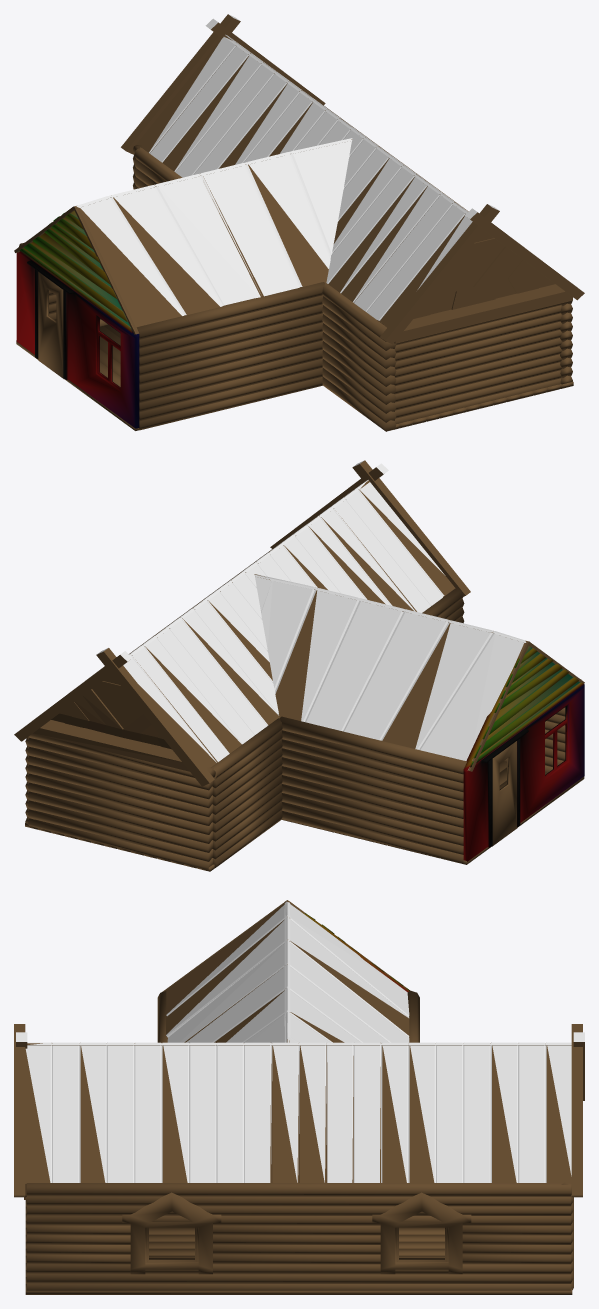
File: snow_house_6.fbx
3 views of the same model, one above another, from view 1: azimuth 30°, elevation 25°; view 2: azimuth 150°, elevation 25°; view 3: azimuth 270°, elevation 25° (orthographic). The views are drawn at different scales.
Visible parts, largest first — view 1: Roof_01_b, Roof_01_b.003, Wall_Wide_02_b.005, Wall_Narrow_01_a, Wall_Narrow_02_b, Wall_Wide_02_b.001, Door_01, Floor_01_c, Wall_Wide_02_b.003, Wall_Wide_01_b.001, Floor_01_c.001; view 2: Roof_01_b, Roof_01_b.003, Wall_Wide_02_b.004, Wall_Wide_02_b.002, Wall_Narrow_01_a, Wall_Wide_02_b.003, Door_01, Wall_Wide_02_b.005, Wall_Wide_02_b.001, Floor_01_c; view 3: Roof_01_b, Wall_Wide_01_b.001, Roof_01_b.003, Floor_01_c.001, Wall_Wide_02_b.004.
Part boxes in pixels (x1,y1,x2,y2): Roof_01_b: (121,14,584,344); Roof_01_b.003: (14,138,352,334); Wall_Wide_02_b.005: (136,282,324,430); Wall_Narrow_01_a: (16,210,139,428); Wall_Narrow_02_b: (394,303,562,423); Wall_Wide_02_b.001: (322,282,396,431); Door_01: (38,272,64,378); Floor_01_c: (16,324,138,430); Wall_Wide_02_b.003: (134,147,182,189); Wall_Wide_01_b.001: (318,101,572,384); Floor_01_c.001: (387,381,573,431); Roof_01_b: (14,460,470,786); Roof_01_b.003: (254,574,584,771); Wall_Wide_02_b.004: (280,716,466,863); Wall_Wide_02_b.002: (28,733,215,869); Wall_Narrow_01_a: (463,646,584,861); Wall_Wide_02_b.003: (211,718,282,867); Door_01: (491,741,517,846); Wall_Wide_02_b.005: (503,679,581,772); Wall_Wide_02_b.001: (422,588,464,623); Floor_01_c: (282,761,584,864); Roof_01_b: (14,1024,584,1197); Wall_Wide_01_b.001: (26,1183,571,1290); Roof_01_b.003: (162,900,410,1042); Floor_01_c.001: (25,1197,572,1294); Wall_Wide_02_b.004: (407,991,419,1042).
Size of the model in its own units: 850 by 426 by 1013.
